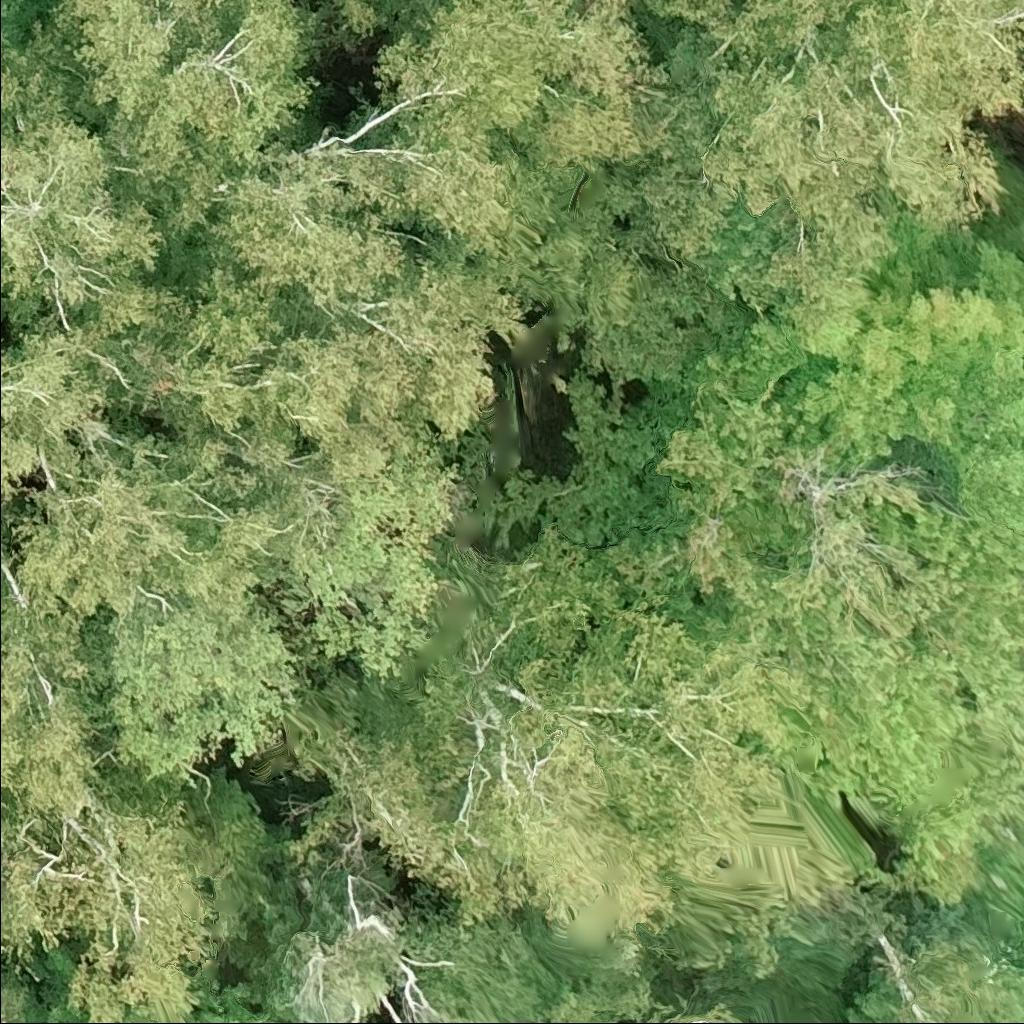crown: (276, 524, 830, 948), (633, 0, 1023, 338), (23, 0, 330, 290), (0, 25, 196, 416), (149, 258, 419, 541), (184, 136, 560, 334), (7, 435, 302, 636), (0, 783, 227, 1023), (259, 427, 462, 682), (376, 0, 669, 176), (83, 600, 304, 785), (362, 236, 534, 444), (0, 574, 111, 818), (0, 325, 113, 503), (304, 0, 447, 50), (0, 977, 30, 1023), (0, 816, 15, 855), (0, 873, 5, 951)
